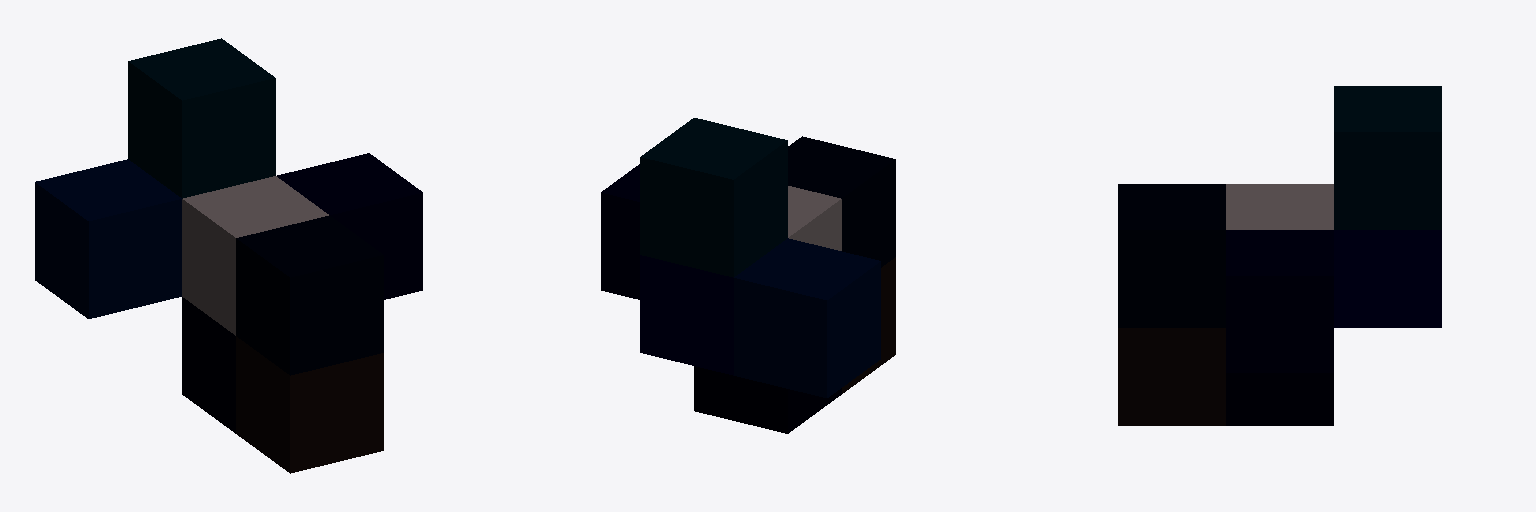
Rendered from iter_10.obj.
3 renders of one model, left to right at view 1: azimuth 30°, elevation 25°; view 2: azimuth 150°, elevation 25°; view 3: azimuth 270°, elevation 25°, orthographic.
Visible parts, largest first — view 1: iter_10; view 2: iter_10; view 3: iter_10.
Boxes of the visible parts, x1,y1,x2,y2 form: iter_10: [35, 38, 422, 473]; iter_10: [601, 118, 895, 433]; iter_10: [1118, 86, 1441, 425].
Size of the model in its own units: 0.3 by 0.3 by 0.3.